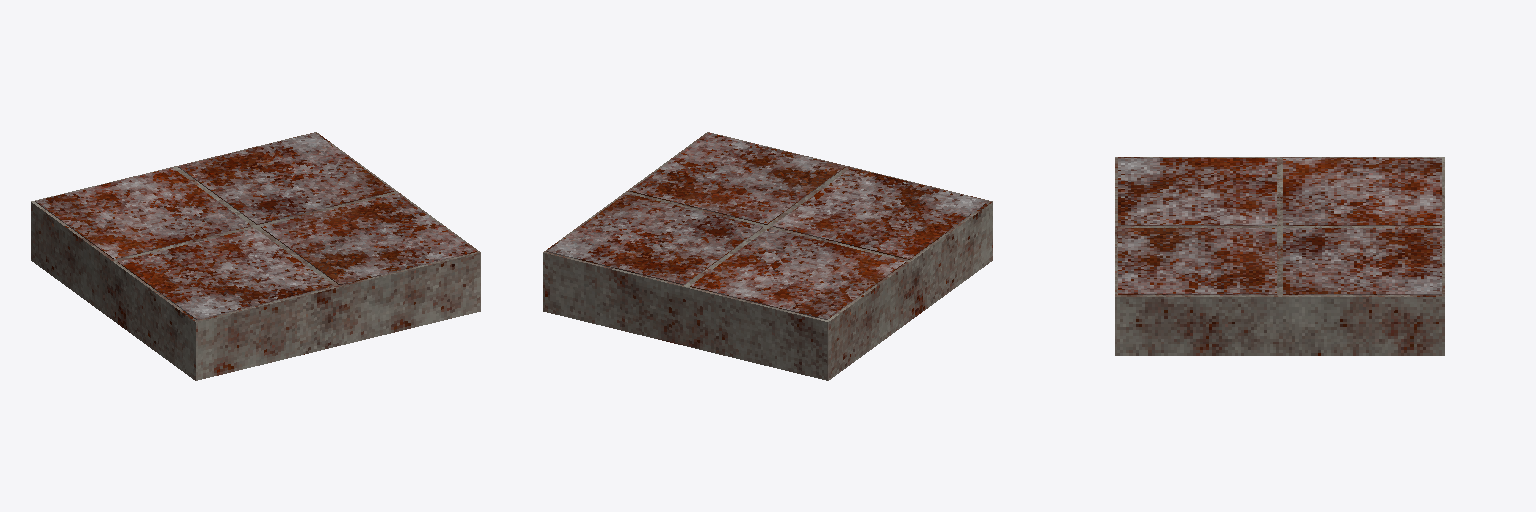
3 renders of one model, left to right at view 1: azimuth 30°, elevation 25°; view 2: azimuth 150°, elevation 25°; view 3: azimuth 270°, elevation 25°, orthographic.
Visible parts, largest first — view 1: Cube; view 2: Cube; view 3: Cube.
Part boxes in pixels (left/top/right/bottom): Cube: left=31, top=132, right=480, bottom=380; Cube: left=543, top=132, right=992, bottom=380; Cube: left=1115, top=157, right=1444, bottom=355.
Size of the model in its own units: 5 by 1 by 5.
Materials: 2 (2 with a texture image).